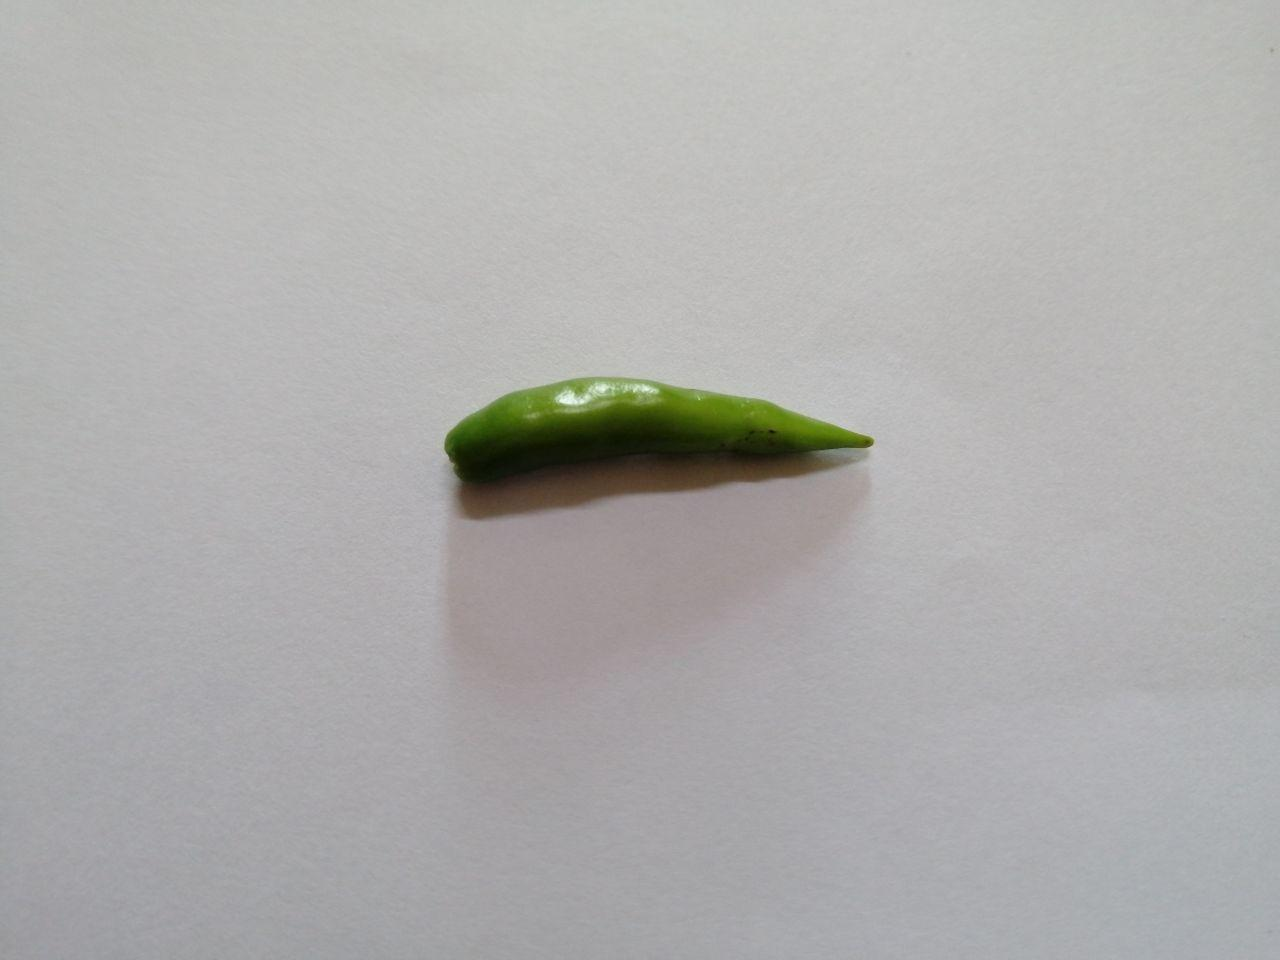lada hijau: (433, 355, 884, 494)
